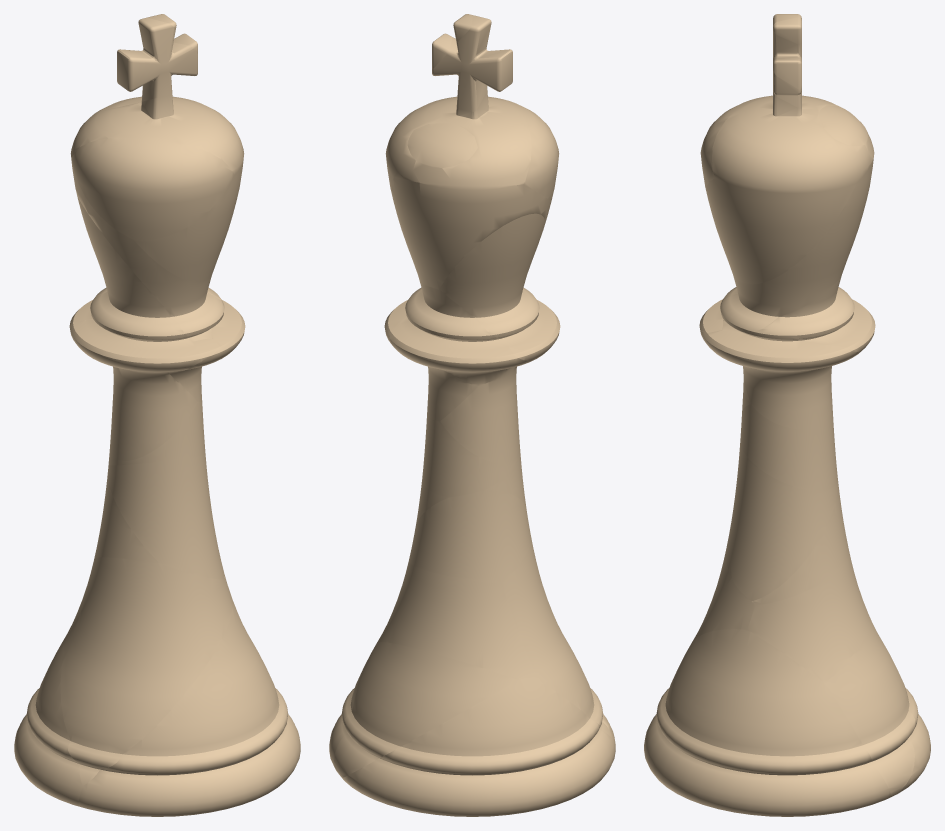
The model's file is king.glb.
The picture shows the model from 3 angles, left to right: view 1: azimuth 30°, elevation 25°; view 2: azimuth 150°, elevation 25°; view 3: azimuth 270°, elevation 25°; orthographic projection.
Visible parts, largest first — view 1: chunk-04.005, chunk-00.005, chunk-14.003, chunk-06.005, chunk-11.005, chunk-15.003, chunk-08.005, chunk-01.005, chunk-12.004, chunk-16.001, chunk-13.004, chunk-05.005 (+3 smaller); view 2: chunk-01.005, chunk-02.005, chunk-03.005, chunk-11.005, chunk-12.004, chunk-05.005, chunk-15.003, chunk-10.005, chunk-16.001, chunk-04.005, chunk-08.005, chunk-07.005 (+5 smaller); view 3: chunk-00.005, chunk-15.003, chunk-06.005, chunk-13.004, chunk-09.005, chunk-03.005, chunk-02.005, chunk-12.004, chunk-07.005, chunk-10.005, chunk-05.005, chunk-16.001 (+4 smaller).
Part boxes in pixels (left/top/right/bottom): chunk-04.005: left=60, top=557, right=232, bottom=785; chunk-00.005: left=78, top=602, right=300, bottom=816; chunk-14.003: left=71, top=137, right=233, bottom=240; chunk-06.005: left=107, top=454, right=224, bottom=579; chunk-11.005: left=69, top=195, right=203, bottom=372; chunk-15.003: left=70, top=95, right=244, bottom=174; chunk-08.005: left=110, top=366, right=197, bottom=460; chunk-01.005: left=14, top=642, right=82, bottom=806; chunk-12.004: left=71, top=149, right=224, bottom=358; chunk-16.001: left=97, top=17, right=197, bottom=111; chunk-13.004: left=134, top=160, right=243, bottom=282; chunk-05.005: left=94, top=474, right=225, bottom=578; chunk-01.005: left=342, top=680, right=615, bottom=816; chunk-02.005: left=334, top=642, right=518, bottom=777; chunk-03.005: left=378, top=561, right=537, bottom=680; chunk-11.005: left=439, top=213, right=560, bottom=360; chunk-12.004: left=392, top=177, right=550, bottom=288; chunk-05.005: left=409, top=490, right=531, bottom=583; chunk-15.003: left=385, top=90, right=531, bottom=186; chunk-10.005: left=389, top=284, right=532, bottom=386; chunk-16.001: left=407, top=15, right=512, bottom=168; chunk-04.005: left=501, top=538, right=611, bottom=737; chunk-08.005: left=440, top=366, right=519, bottom=462; chunk-07.005: left=422, top=412, right=519, bottom=496; chunk-00.005: left=644, top=629, right=890, bottom=816; chunk-15.003: left=712, top=93, right=873, bottom=193; chunk-06.005: left=726, top=443, right=837, bottom=601; chunk-13.004: left=705, top=178, right=856, bottom=284; chunk-09.005: left=700, top=330, right=858, bottom=428; chunk-03.005: left=747, top=551, right=870, bottom=682; chunk-02.005: left=825, top=618, right=915, bottom=796; chunk-12.004: left=699, top=147, right=874, bottom=332; chunk-07.005: left=740, top=404, right=837, bottom=490; chunk-10.005: left=722, top=275, right=875, bottom=353; chunk-05.005: left=752, top=481, right=848, bottom=605; chunk-16.001: left=773, top=14, right=867, bottom=145.
Bounding box in the file's own units: 0.6142 × 1.75 × 0.6142.
